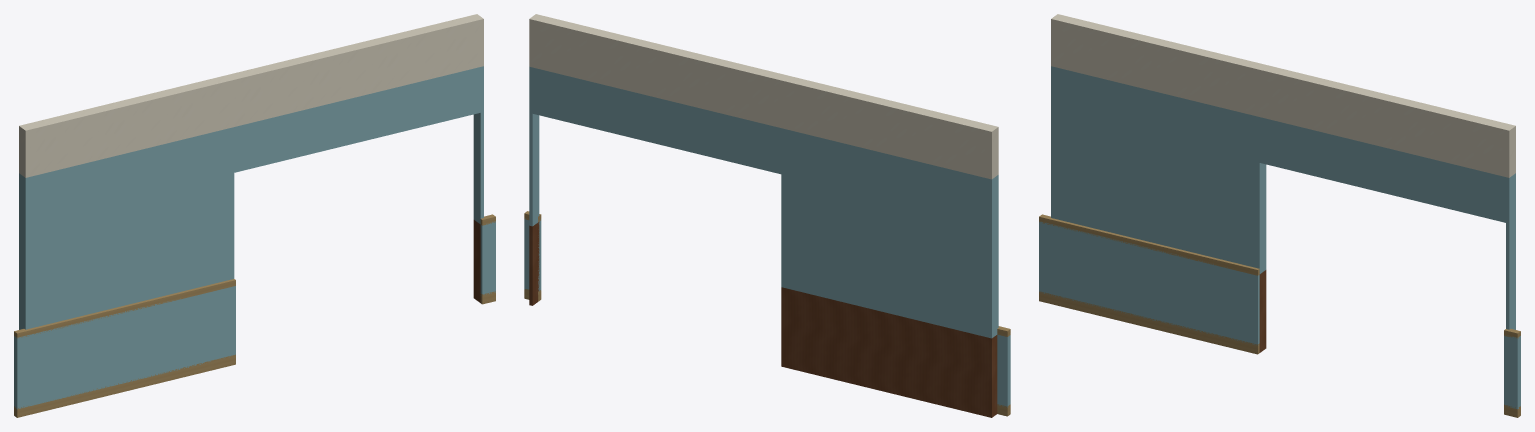
Rendered from D04_PORT_FORWARD_COMMONS_ENTRY_r002.glb.
3 views of the same model, side by side, from view 1: azimuth 30°, elevation 25°; view 2: azimuth 150°, elevation 25°; view 3: azimuth 330°, elevation 25° (orthographic).
Visible parts, largest first — view 1: D04CS_D04Commons_SouthGlass_Remaining_0, D04CS_D04PF_UpperGuard_06_Remaining_0, D04CS_D04Commons_SouthHead_RemainingHead, D04CS_D04Commons_SouthHead_Remaining_0, D04CS_D04Commons_SouthGlass_RemainingHead, D04CS_D04PF_UpperGuard_06_Base_Remaining_0, D04CS_D04PF_UpperGuard_06_Cap_Remaining_0, D04CS_D04Commons_SouthGlass_Remaining_1, D04CS_D04PF_UpperGuard_06_Remaining_1, D04CS_D04Commons_SouthDado_Remaining_1; view 2: D04CS_D04Commons_SouthGlass_Remaining_0, D04CS_D04Commons_SouthDado_Remaining_0, D04CS_D04Commons_SouthHead_RemainingHead, D04CS_D04Commons_SouthHead_Remaining_0, D04CS_D04Commons_SouthGlass_RemainingHead, D04CS_D04Commons_SouthGlass_Remaining_1, D04CS_D04PF_UpperGuard_06_Remaining_0, D04CS_D04Commons_SouthDado_Remaining_1, D04CS_D04PF_UpperGuard_06_Remaining_1; view 3: D04CS_D04Commons_SouthGlass_Remaining_0, D04CS_D04PF_UpperGuard_06_Remaining_0, D04CS_D04Commons_SouthHead_RemainingHead, D04CS_D04Commons_SouthGlass_RemainingHead, D04CS_D04Commons_SouthHead_Remaining_0, D04CS_D04PF_UpperGuard_06_Base_Remaining_0, D04CS_D04PF_UpperGuard_06_Cap_Remaining_0, D04CS_D04Commons_SouthGlass_Remaining_1, D04CS_D04PF_UpperGuard_06_Remaining_1, D04CS_D04Commons_SouthDado_Remaining_0, D04CS_D04Commons_SouthHead_Remaining_1.
Part boxes in pixels (box(x1,y1,x2,y2)): D04CS_D04Commons_SouthGlass_Remaining_0: box(19, 127, 234, 329); D04CS_D04PF_UpperGuard_06_Remaining_0: box(14, 286, 235, 409); D04CS_D04Commons_SouthHead_RemainingHead: box(228, 15, 480, 126); D04CS_D04Commons_SouthHead_Remaining_0: box(19, 75, 234, 177); D04CS_D04Commons_SouthGlass_RemainingHead: box(234, 67, 480, 172); D04CS_D04PF_UpperGuard_06_Base_Remaining_0: box(14, 354, 235, 417); D04CS_D04PF_UpperGuard_06_Cap_Remaining_0: box(14, 279, 235, 338); D04CS_D04Commons_SouthGlass_Remaining_1: box(473, 66, 483, 224); D04CS_D04PF_UpperGuard_06_Remaining_1: box(480, 221, 495, 295); D04CS_D04Commons_SouthDado_Remaining_1: box(473, 220, 480, 302); D04CS_D04Commons_SouthGlass_Remaining_0: box(781, 128, 998, 338); D04CS_D04Commons_SouthDado_Remaining_0: box(781, 287, 997, 417); D04CS_D04Commons_SouthHead_RemainingHead: box(532, 15, 787, 127); D04CS_D04Commons_SouthHead_Remaining_0: box(781, 75, 998, 179); D04CS_D04Commons_SouthGlass_RemainingHead: box(532, 67, 781, 174); D04CS_D04Commons_SouthGlass_Remaining_1: box(529, 66, 539, 226); D04CS_D04PF_UpperGuard_06_Remaining_0: box(997, 334, 1010, 407); D04CS_D04Commons_SouthDado_Remaining_1: box(529, 222, 539, 305); D04CS_D04PF_UpperGuard_06_Remaining_1: box(524, 218, 541, 290); D04CS_D04Commons_SouthGlass_Remaining_0: box(1051, 66, 1266, 273); D04CS_D04PF_UpperGuard_06_Remaining_0: box(1039, 221, 1259, 345); D04CS_D04Commons_SouthHead_RemainingHead: box(1259, 65, 1511, 176); D04CS_D04Commons_SouthGlass_RemainingHead: box(1259, 117, 1505, 222); D04CS_D04Commons_SouthHead_Remaining_0: box(1051, 14, 1265, 116); D04CS_D04PF_UpperGuard_06_Base_Remaining_0: box(1039, 291, 1259, 354); D04CS_D04PF_UpperGuard_06_Cap_Remaining_0: box(1039, 214, 1259, 275); D04CS_D04Commons_SouthGlass_Remaining_1: box(1506, 173, 1515, 329); D04CS_D04PF_UpperGuard_06_Remaining_1: box(1504, 335, 1520, 409); D04CS_D04Commons_SouthDado_Remaining_0: box(1259, 270, 1266, 352); D04CS_D04Commons_SouthHead_Remaining_1: box(1506, 125, 1515, 177).
Size of the model in its own units: 7 by 3.96 by 0.215.
4 materials, 3 textured.
